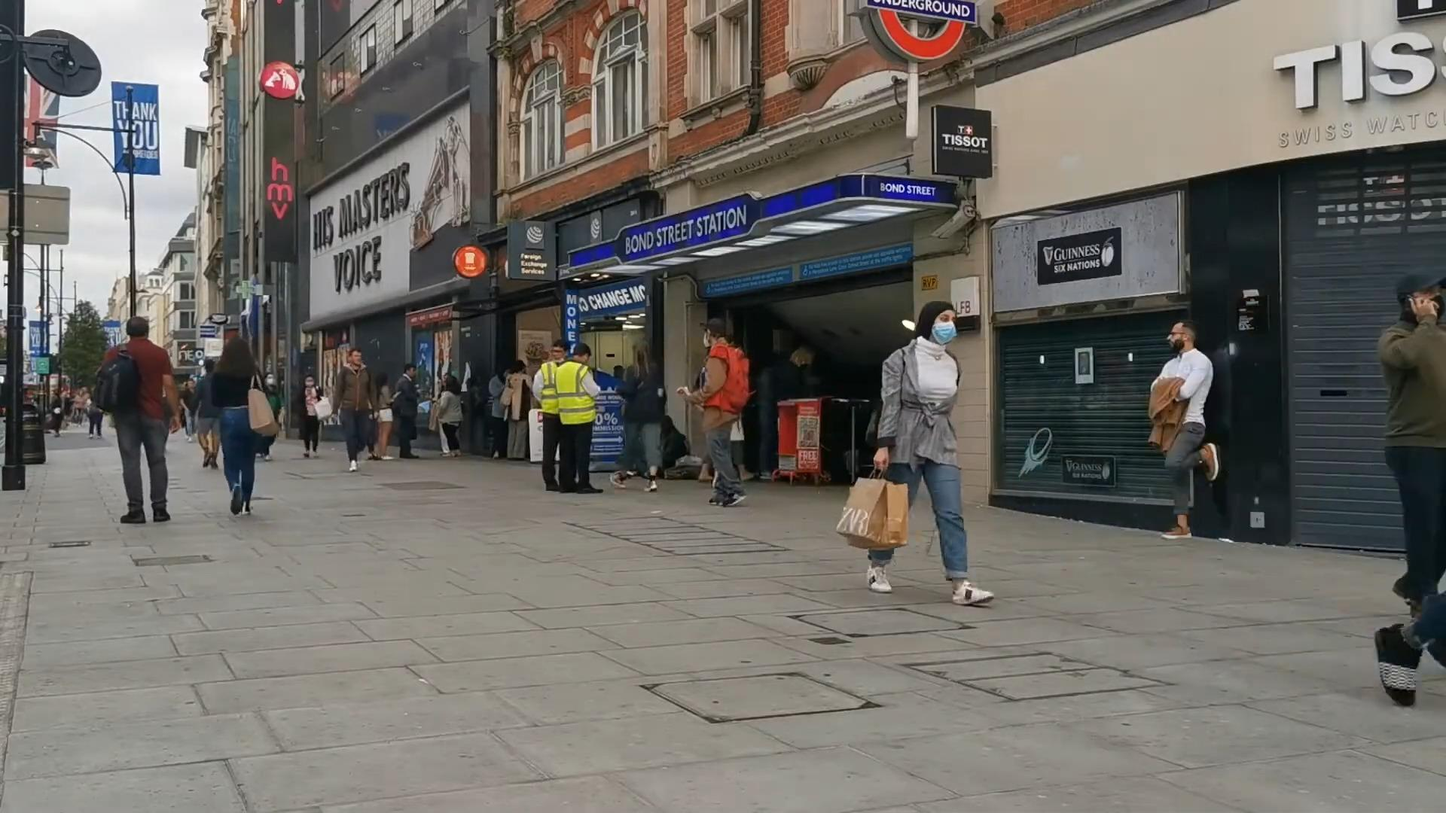no-helmet: (1397, 273, 1446, 323), (916, 300, 957, 346), (215, 336, 256, 378), (1166, 320, 1198, 354), (702, 317, 726, 348), (632, 340, 651, 372), (125, 316, 149, 340), (552, 339, 570, 364), (573, 342, 592, 364), (375, 372, 388, 396), (445, 376, 461, 395), (348, 347, 362, 366), (404, 363, 416, 378)
